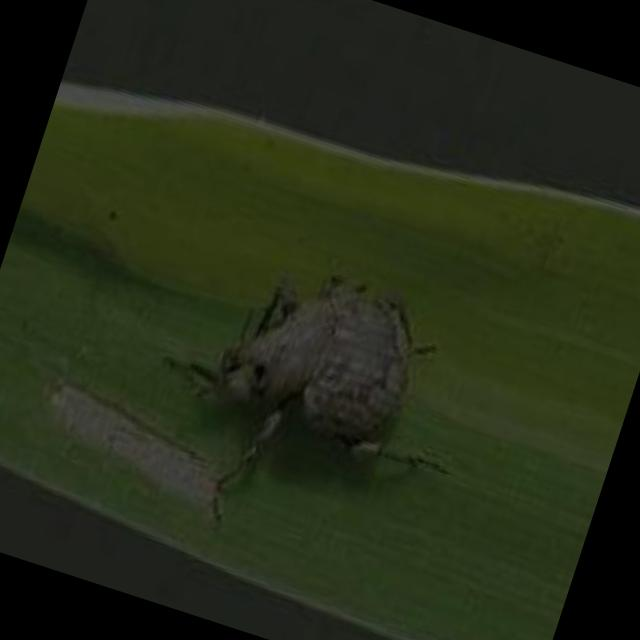rice-bug: (175, 242, 462, 532)
